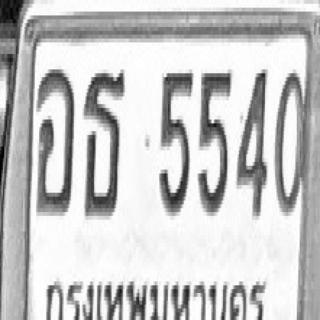A24: (82, 68, 126, 218)
A43: (36, 66, 74, 216)
N00: (274, 67, 310, 214)
N04: (236, 64, 268, 218)
N05: (197, 66, 232, 216), (158, 67, 193, 214)
